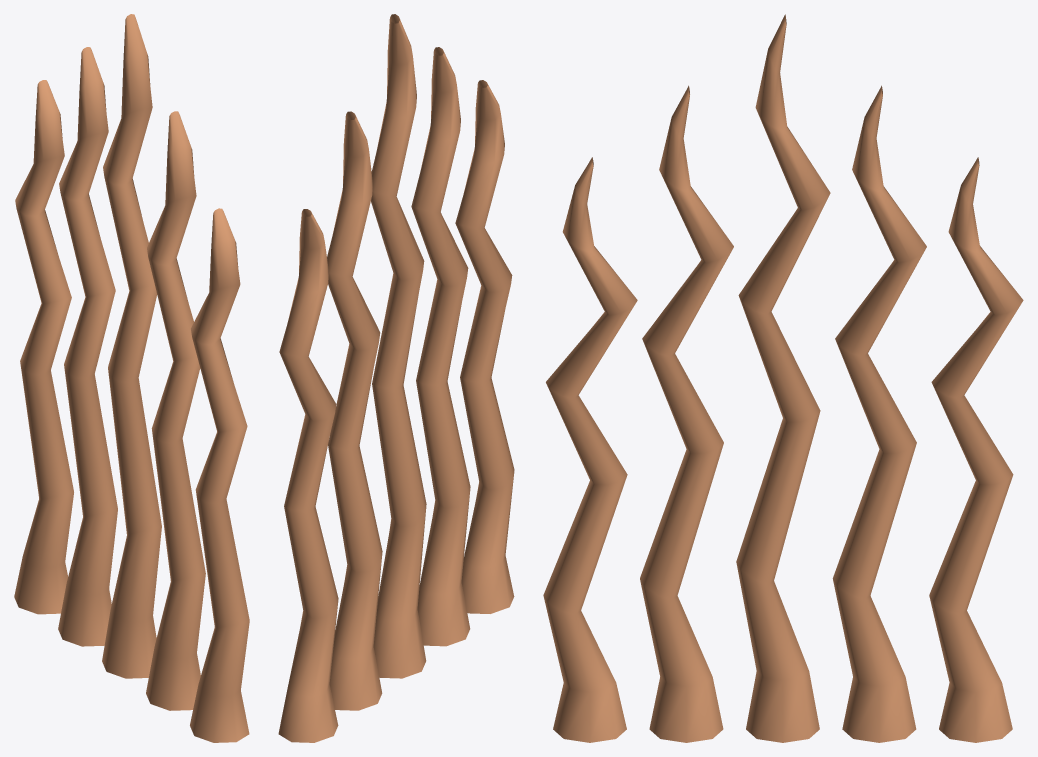
Rendered from Portal_Doors.fbx.
3 renders of one model, left to right at view 1: azimuth 30°, elevation 25°; view 2: azimuth 150°, elevation 25°; view 3: azimuth 270°, elevation 25°, orthographic. The views are drawn at different scales.
Visible parts, largest first — view 1: Doors; view 2: Doors; view 3: Doors.
Boxes of the visible parts, bbox=[...] form: Doors: bbox=[14, 14, 249, 742]; Doors: bbox=[278, 14, 514, 742]; Doors: bbox=[543, 14, 1023, 742].
Bounding box in the file's own units: 38.4 × 470 × 286.
